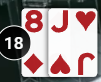8: (22, 9, 45, 33)
j: (49, 9, 73, 33)
